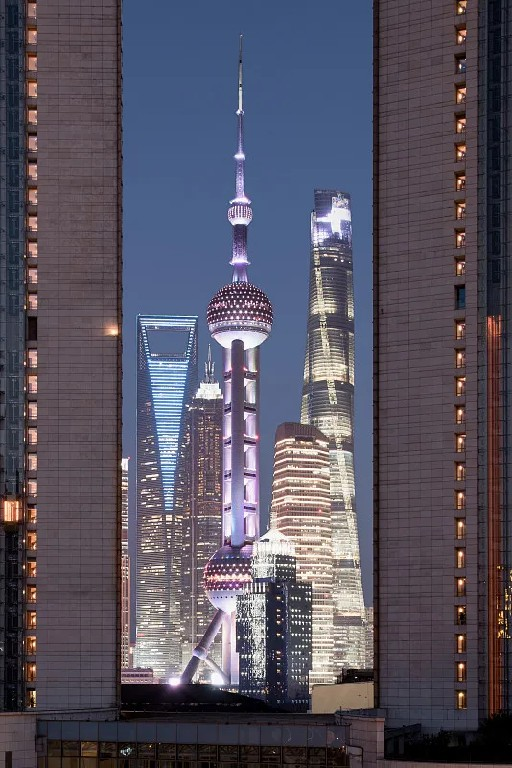Oriental: (179, 32, 273, 685)
